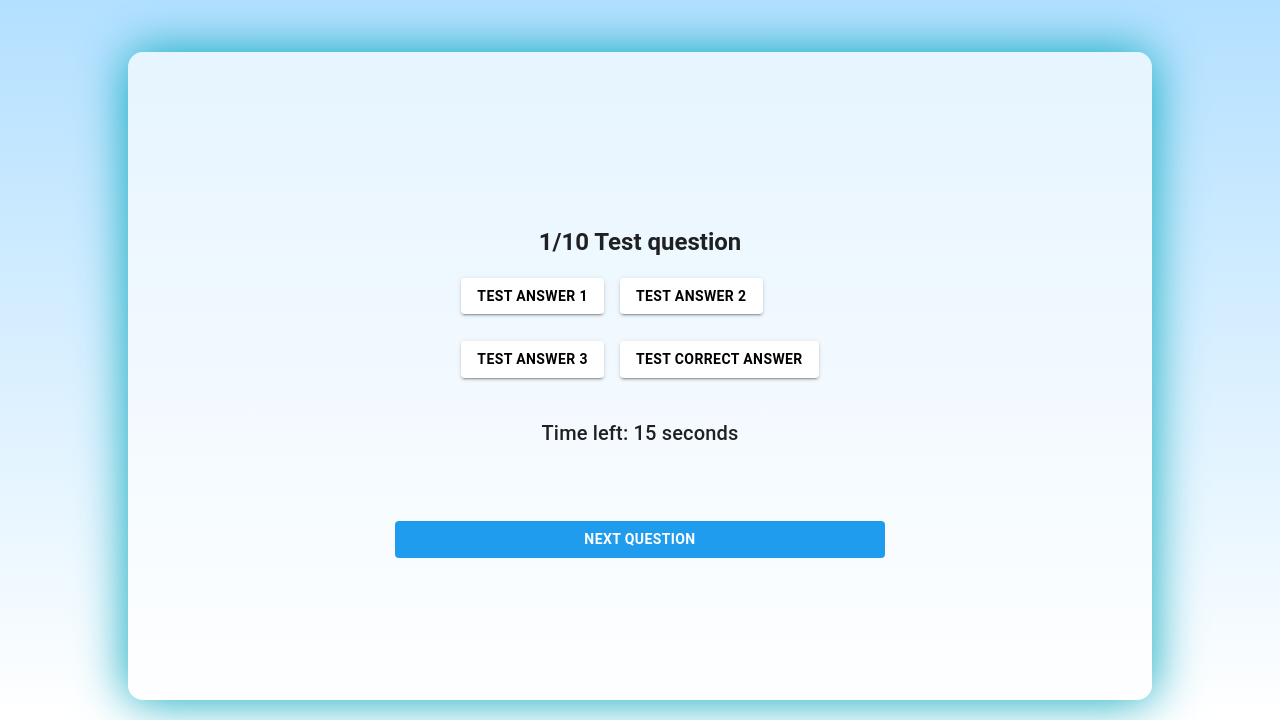
Test: GetQuestion component › Should play and select an incorrect answer
The width and height of the screenshot is (1280, 720).
expect the heading "1/10 Test question" is shown: met, box 539,226 -> 741,258
Click the button "Test answer 1". click: click(533, 296)
box: 461,278 -> 604,314
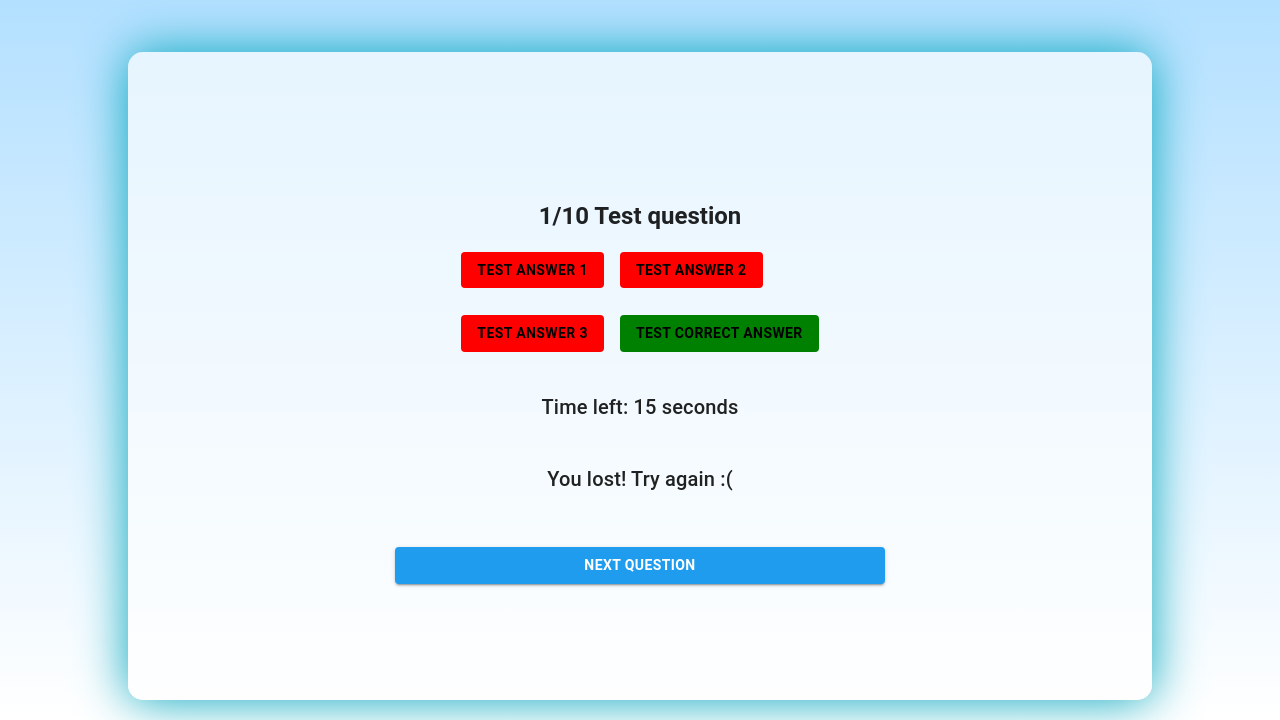
expect the text "You lost! Try again :(" is shown: met, box 547,463 -> 733,495
